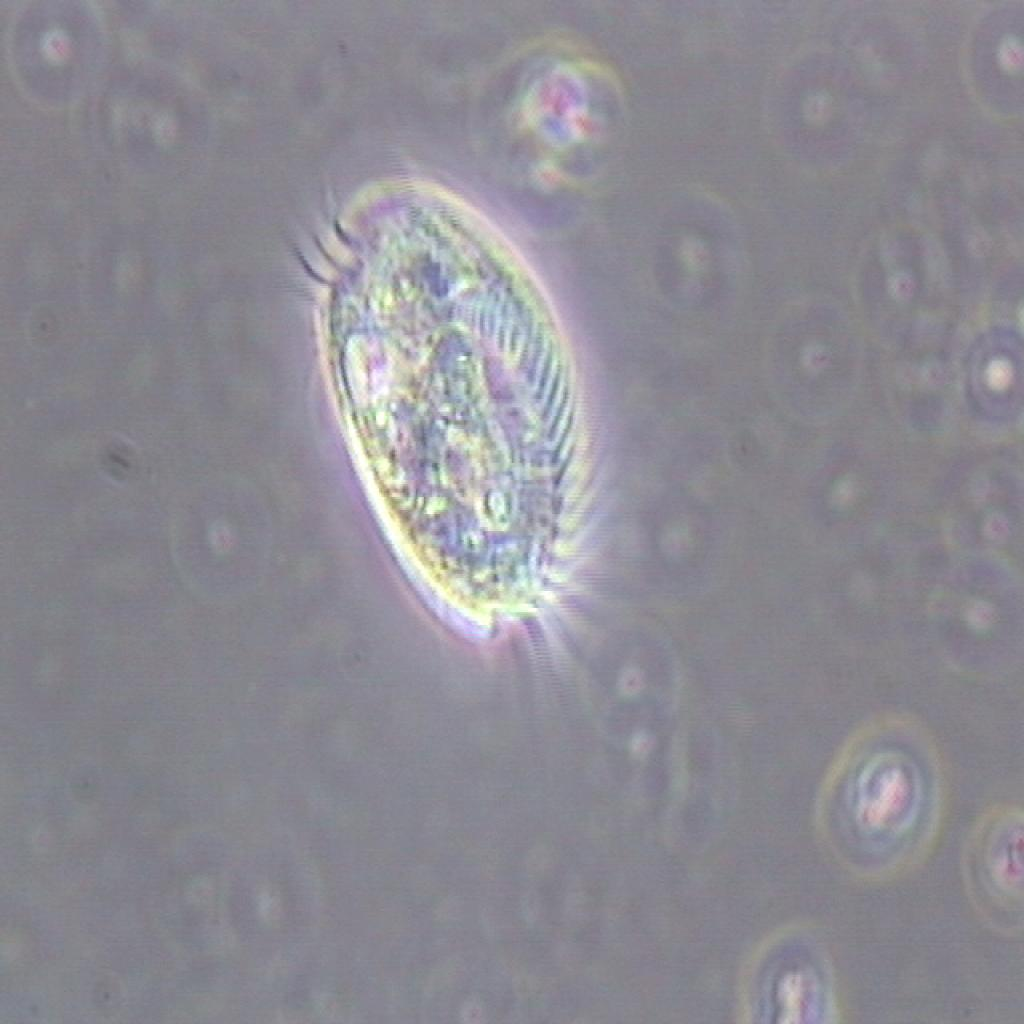Euplotes: (253, 147, 670, 696)
